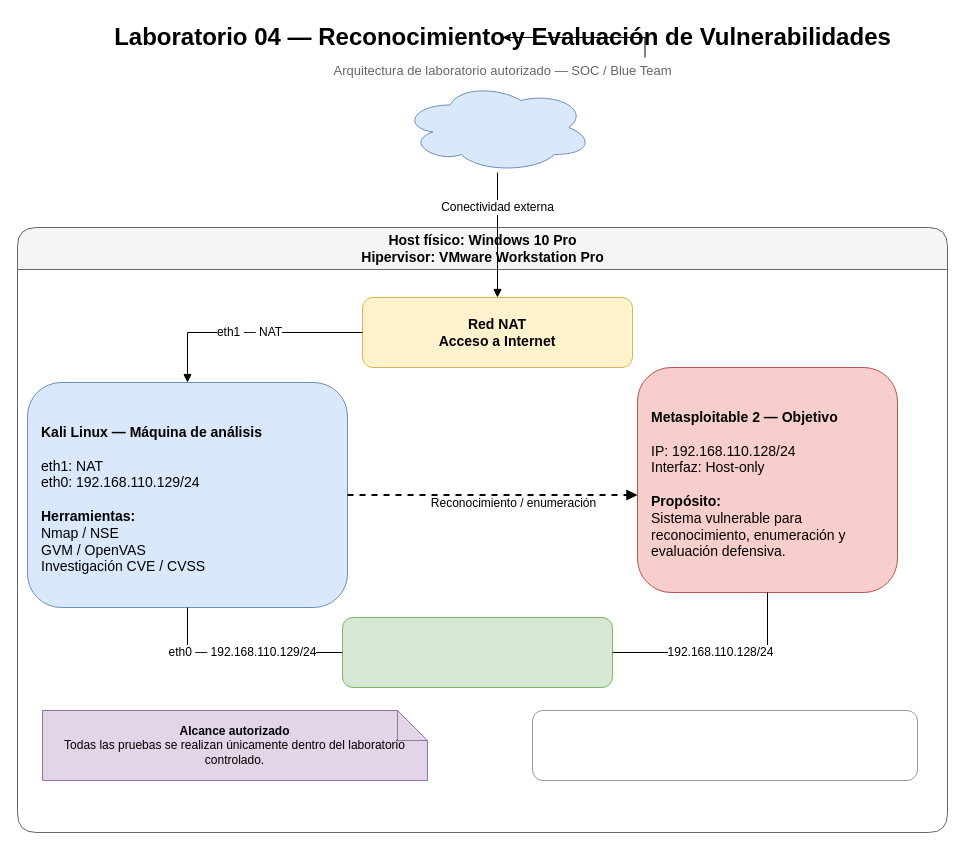
Some shapes in this 965 by 850 pixel diagram are drawn without their labels. Here are the shapes that lost their labels. From the top down, the centre of each, then its label:
(x=497, y=127): Internet
(x=477, y=652): Red Host-only 192.168.110.0/24 Segmento aislado del laboratorio
(x=725, y=745): Evidencia → Interpretación → Riesgo → Recomendación
